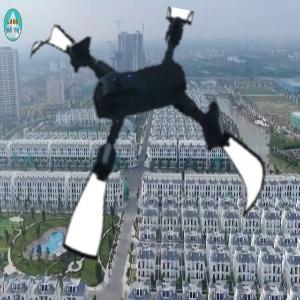drone: (10, 5, 276, 271)
